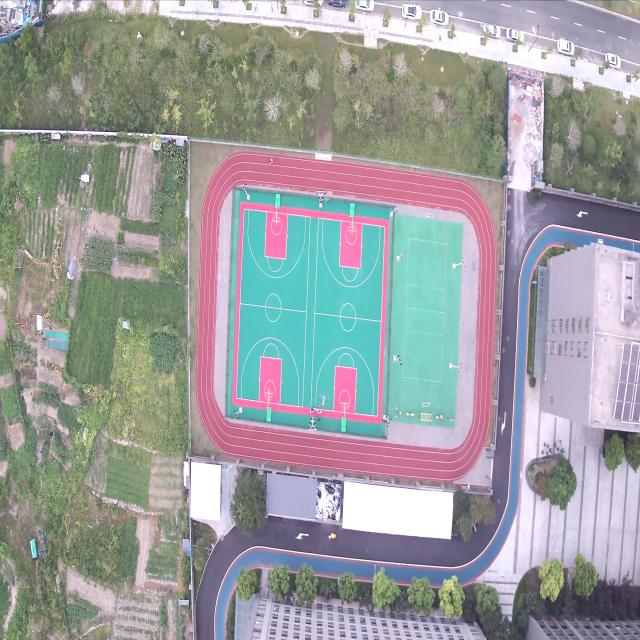drone: (318, 393, 329, 407)
